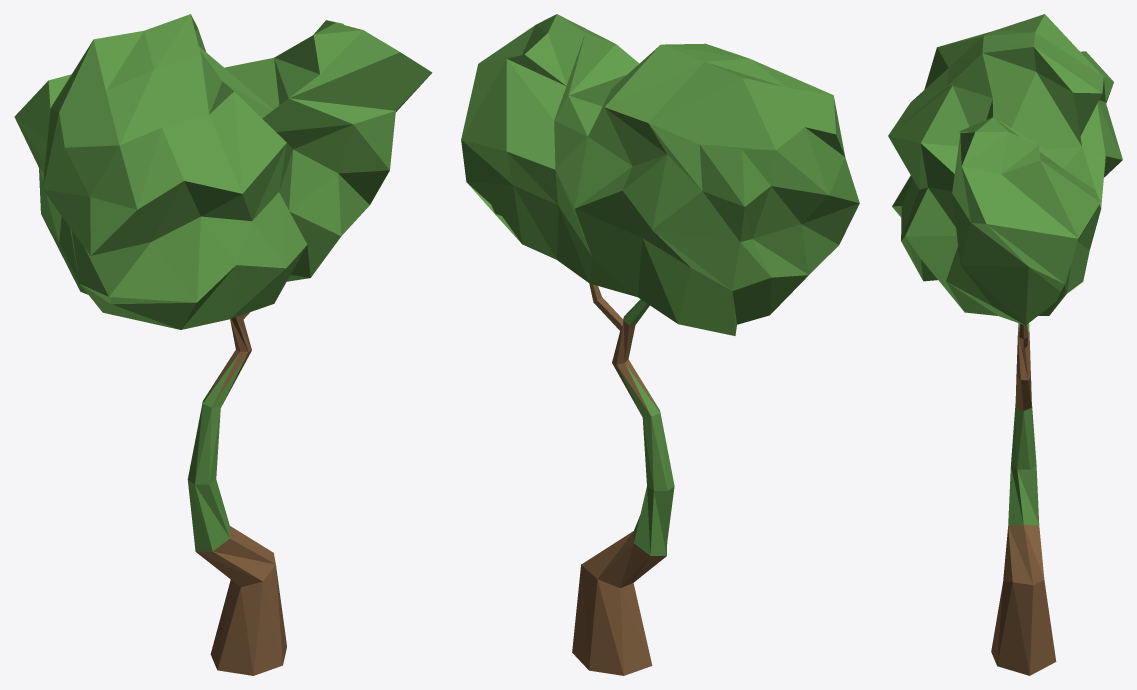
The model's file is tree3d-048.glb.
3 views of the same model, side by side, from view 1: azimuth 30°, elevation 25°; view 2: azimuth 150°, elevation 25°; view 3: azimuth 270°, elevation 25° (orthographic). The views are drawn at different scales.
Visible parts, largest first — view 1: tree3d-048; view 2: tree3d-048; view 3: tree3d-048.
Part boxes in pixels (x1,y1,x2,y2): tree3d-048: (14,14,432,675); tree3d-048: (461,14,859,675); tree3d-048: (888,14,1122,675).
Size of the model in its own units: 0.6026 by 1 by 0.3623.
